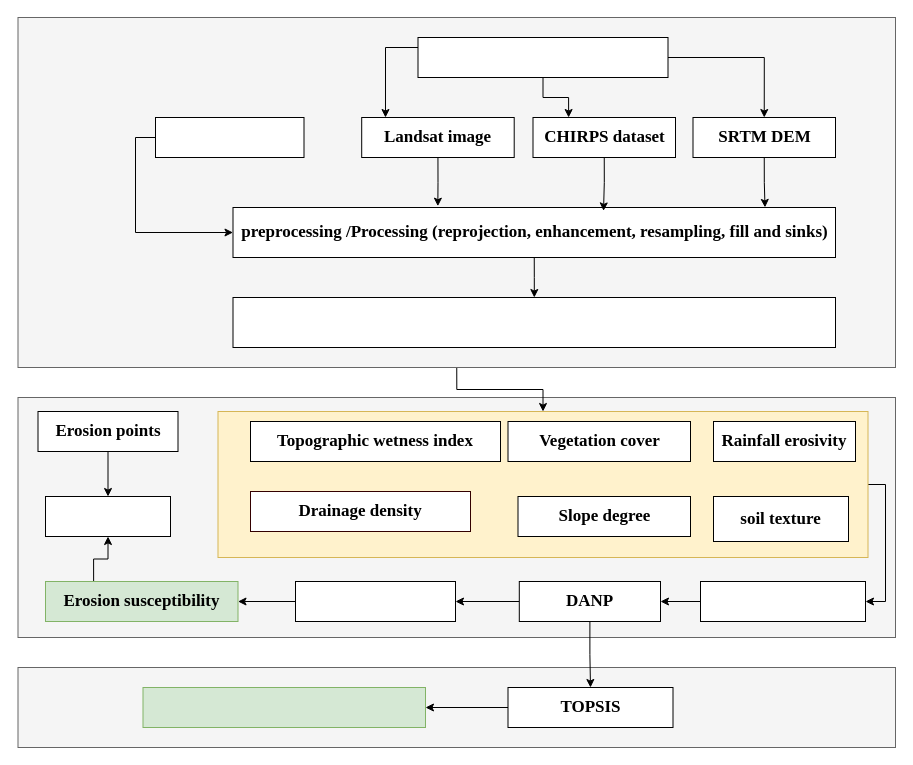
This 913x765 diagram has some shape labels left out. Here are the shapes that lost their labels. From the top down, the box of each, then its label:
(417, 36, 668, 78): Remote Sensing Dataset
(154, 116, 304, 158): Soil dataset
(232, 296, 836, 348): Watershed and sub-watershed delineation
(44, 496, 170, 536): Validation
(294, 580, 456, 622): WLC
(700, 580, 866, 622): Fuzzy DEMATEL
(142, 686, 426, 728): Watershed prioritization
